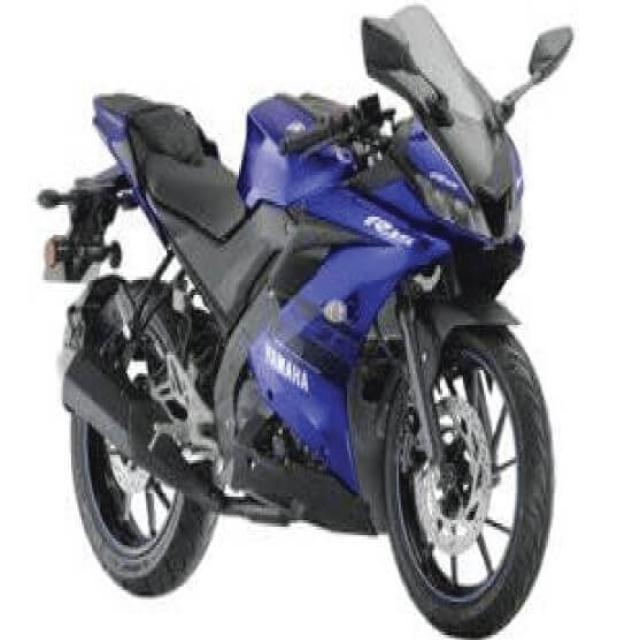motorcycle: (40, 7, 571, 636)
